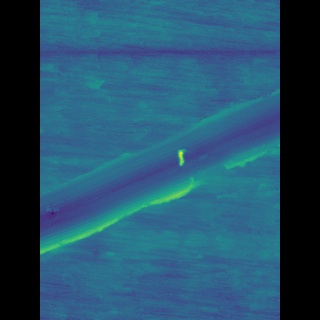Loch: (69, 88, 249, 256)
